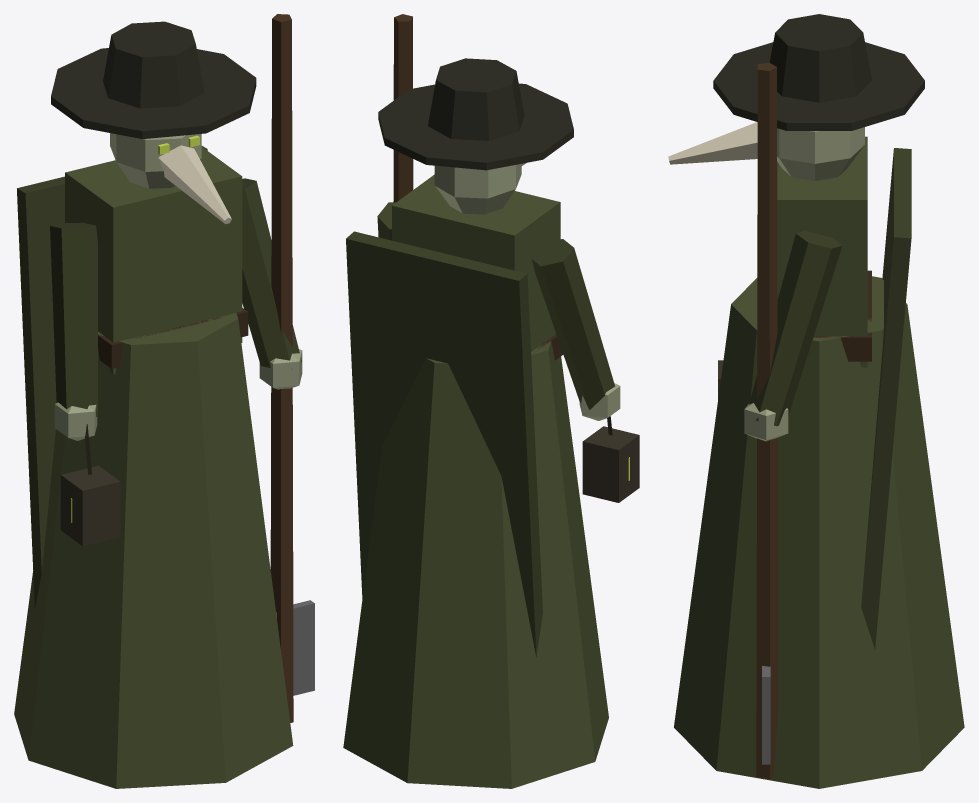
File: seuchenvogt.glb
3 views of the same model, side by side, from view 1: azimuth 30°, elevation 25°; view 2: azimuth 150°, elevation 25°; view 3: azimuth 270°, elevation 25° (orthographic). The views are drawn at different scales.
Size of the model in its own units: 0.68 by 1.78 by 0.6724.
Materials: 1 (1 with a texture image).
